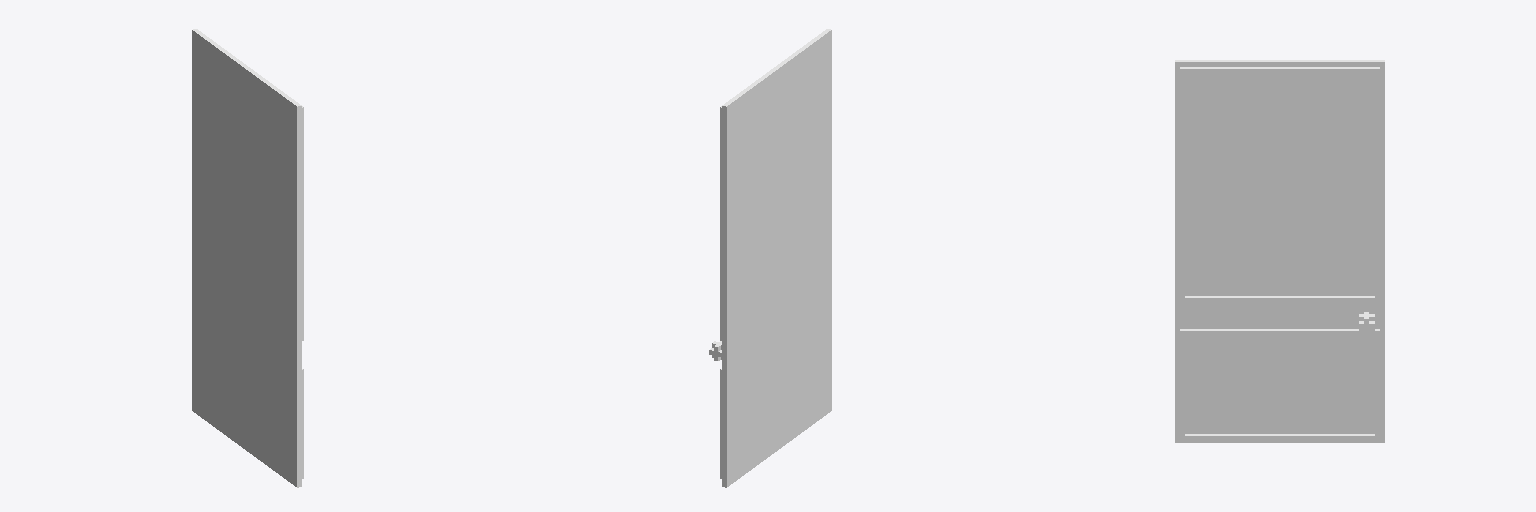
Rendered from puerta.obj.
3 views of the same model, side by side, from view 1: azimuth 30°, elevation 25°; view 2: azimuth 150°, elevation 25°; view 3: azimuth 270°, elevation 25° (orthographic).
Parts seen in each view (by area): view 1: object 1; view 2: object 1; view 3: object 1.
Boxes of the visible parts, x1=… form: object 1: x1=192, y1=29, x2=303, y2=487; object 1: x1=709, y1=29, x2=831, y2=487; object 1: x1=1175, y1=60, x2=1384, y2=442.
Size of the model in its own units: 0.5 by 8 by 4.